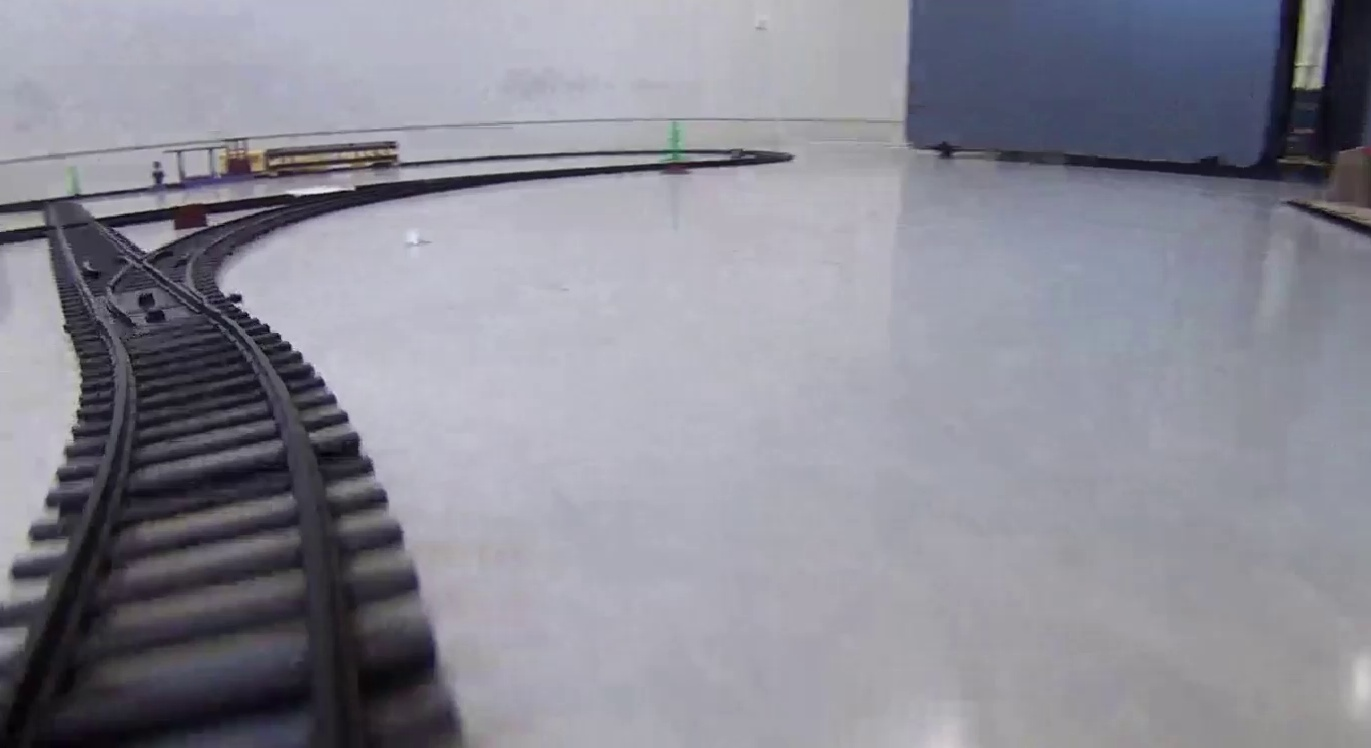box: (171, 205, 209, 229)
